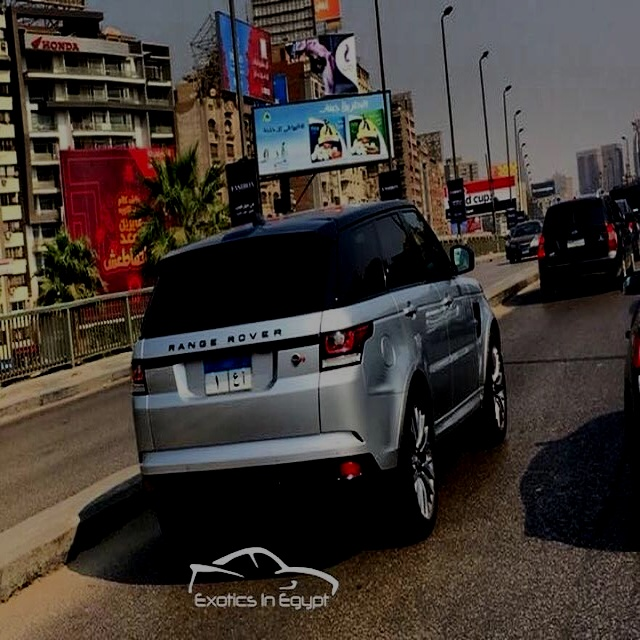License Plate: (202, 350, 253, 398)
